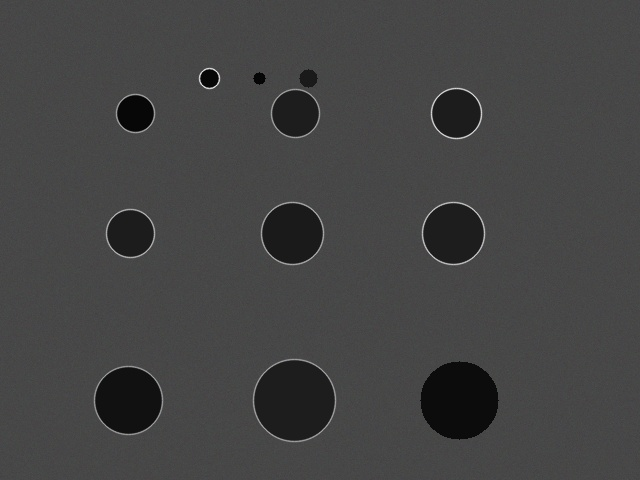hole: (253, 359, 335, 441), (420, 361, 498, 439), (94, 366, 162, 434), (261, 202, 323, 264), (422, 202, 484, 264), (431, 88, 481, 138), (271, 89, 319, 137), (106, 209, 154, 257), (116, 94, 154, 132), (199, 68, 219, 88), (299, 69, 317, 87), (253, 72, 265, 84)
